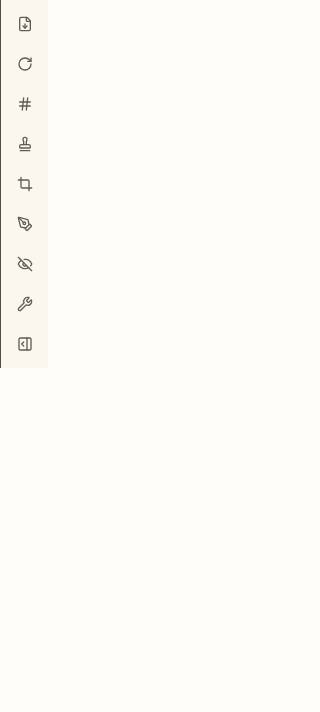
Suite 12 — PDF Editor: Tool Panels › TP-01p — it is offered on a document that can be compressed
The image size is (320, 712).
Click the button titled "Compress PDF" at coordinates (24, 24), box [4, 4, 44, 44]
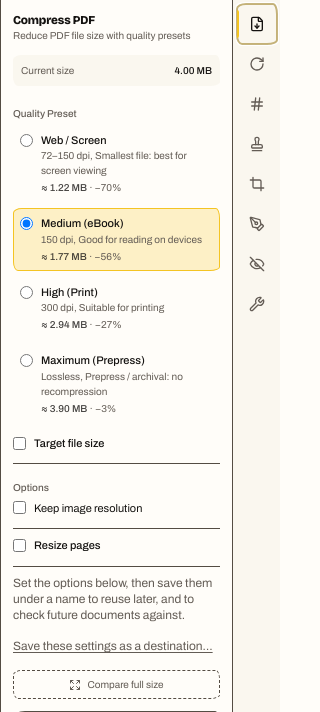
expect the text "Target file size" is shown: met, box [34, 435, 104, 451]
